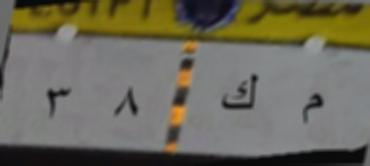3: (40, 80, 75, 126)
8: (109, 80, 143, 132)
kaaf: (215, 65, 265, 126)
meem: (296, 86, 329, 138)
